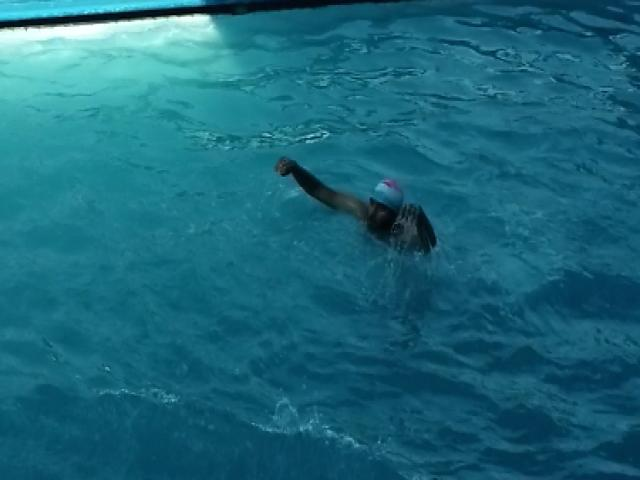swimming: (270, 150, 437, 260)
